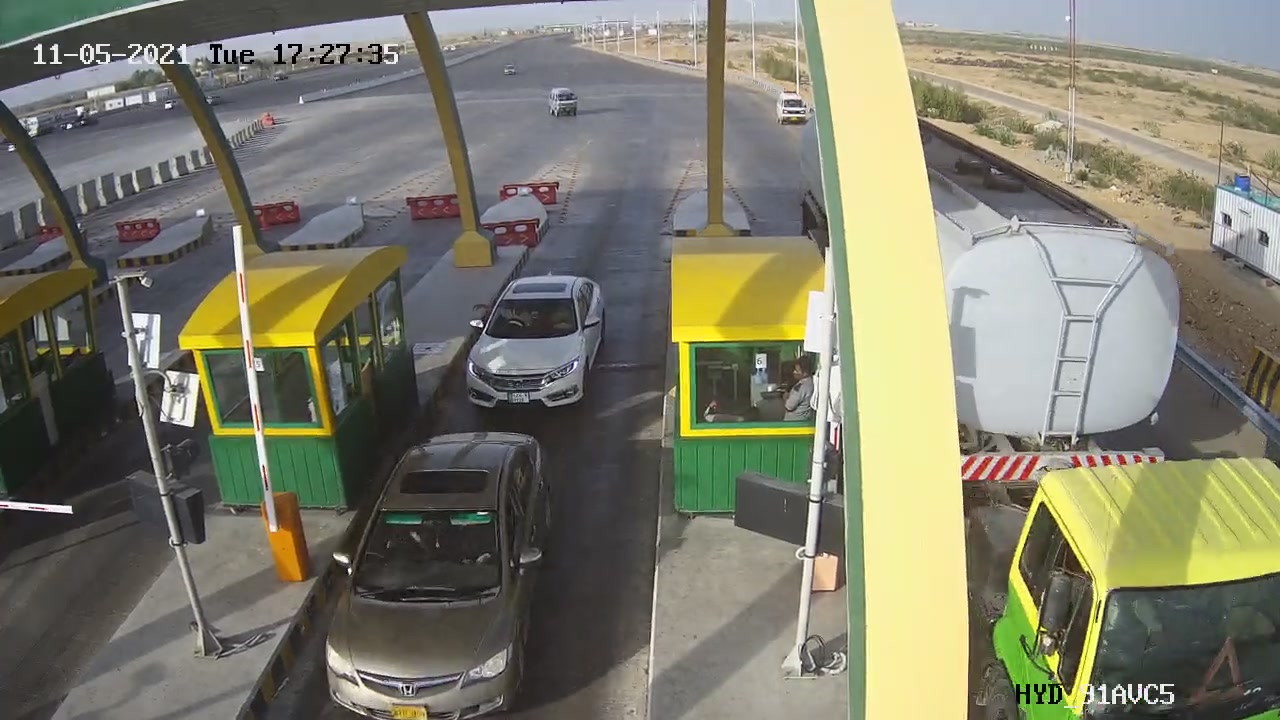F1: (447, 253, 622, 438)
